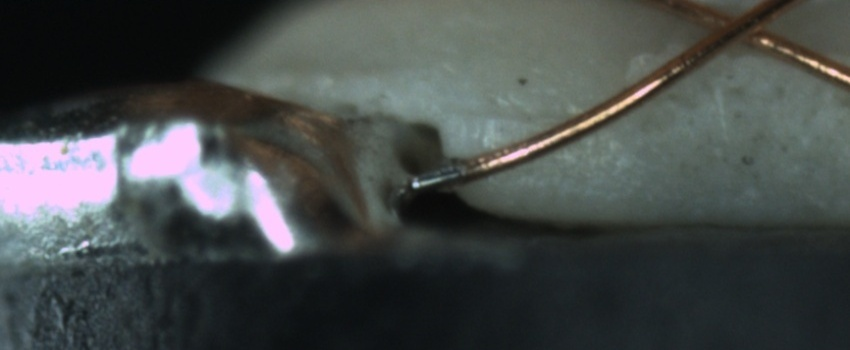CL: (690, 0, 789, 57)
DL: (449, 83, 591, 147)
TS: (411, 160, 465, 193)
